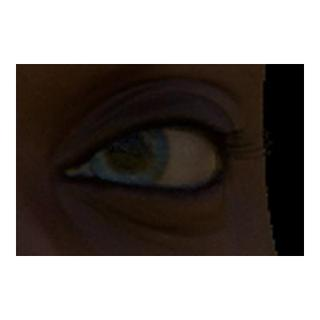pupil: (109, 133, 145, 169)
